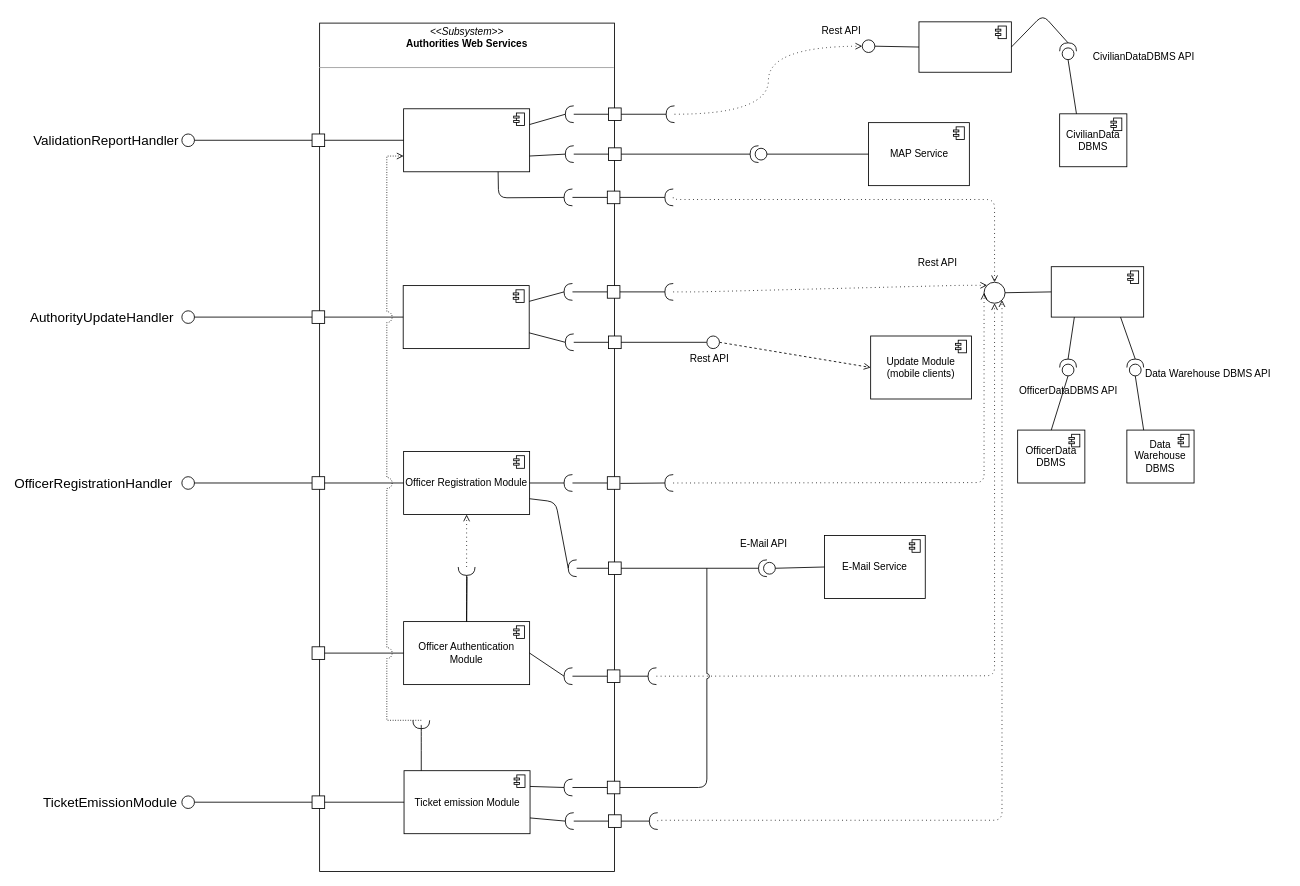
This 1300x886 diagram has some shape labels left out. Here are the shapes that lost their labels. From the top down, the centre of each, then its label:
At pixel 964 46: "SafeStreet Data Server".
At pixel 466 140: "Validation Report Module".
At pixel 758 154: "MAP API".
At pixel 1097 291: "Authority's Application and Data Server".
At pixel 465 317: "Authority Update Module".
